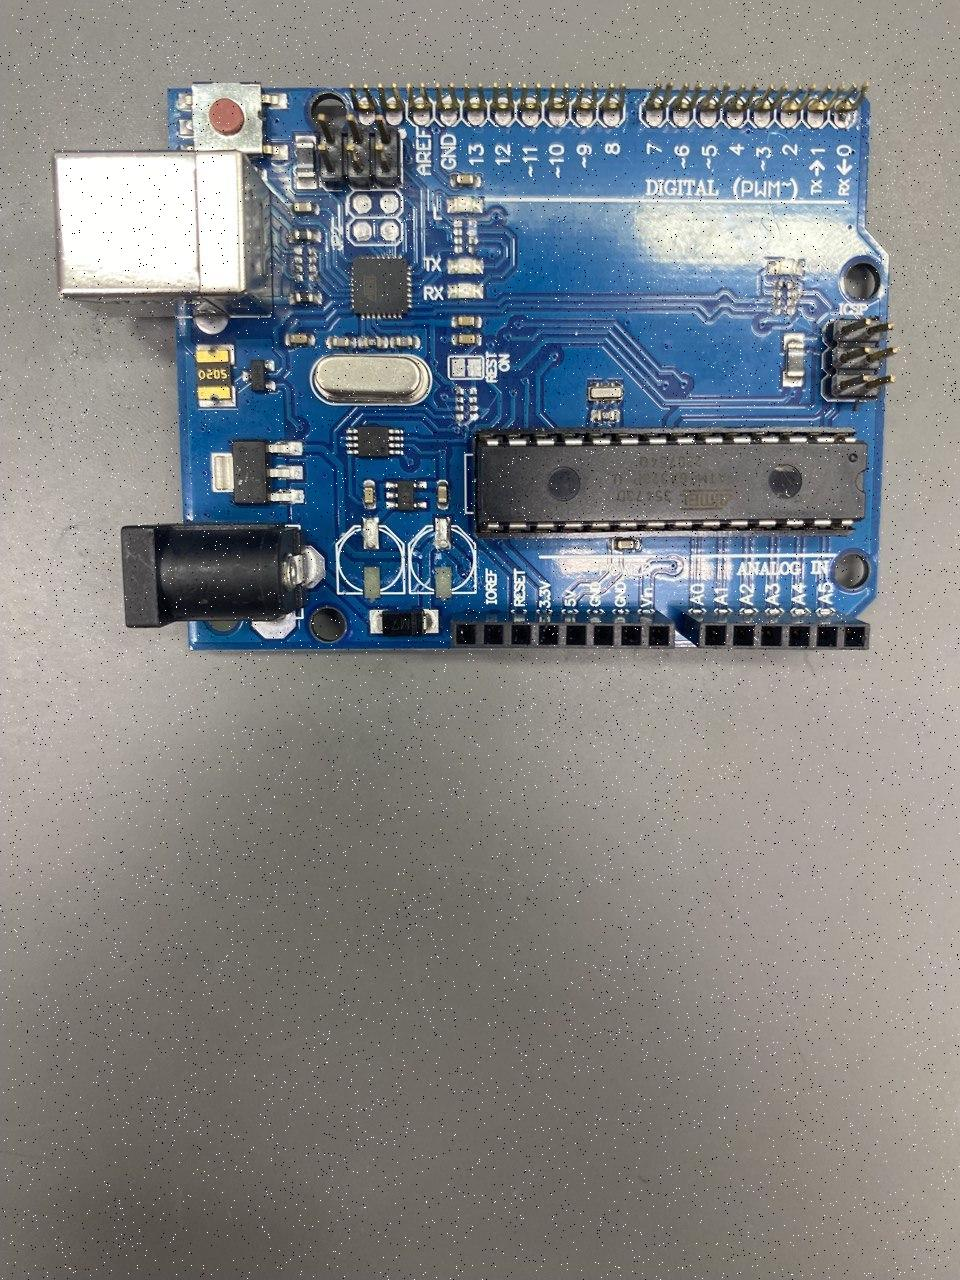ATmega328 chip: (474, 424, 868, 540)
Arduino board: (52, 81, 898, 651)
USB: (51, 149, 271, 316)
pins: (450, 609, 675, 649), (679, 608, 870, 650)
